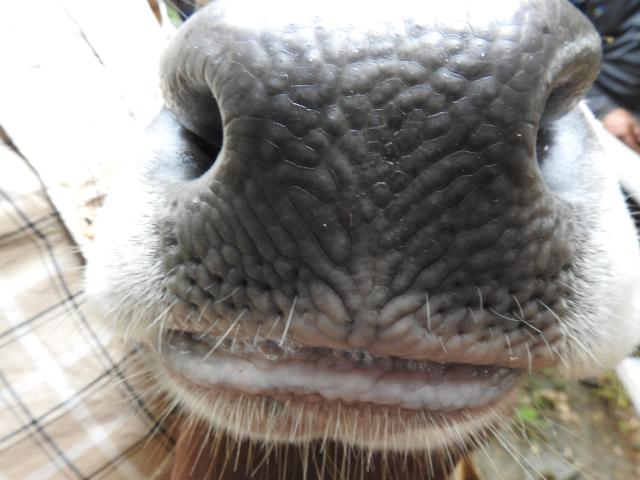Muzzle: (230, 8, 512, 348)
